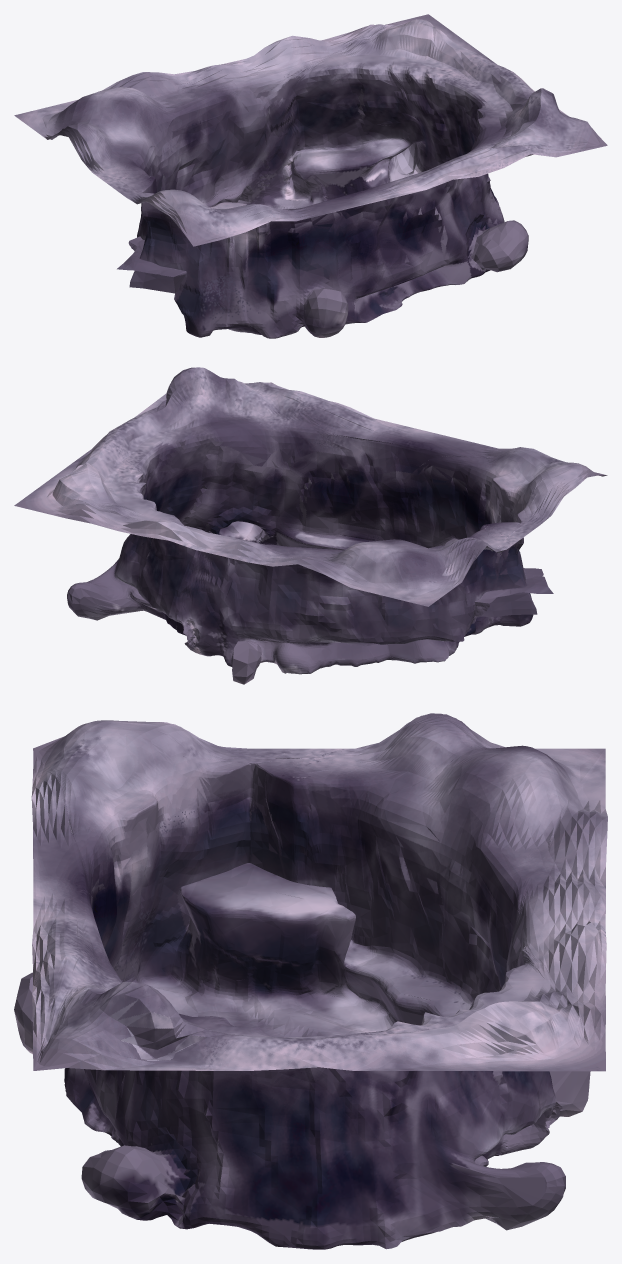
File: Asteroid.fbx
3 views of the same model, one above another, from view 1: azimuth 30°, elevation 25°; view 2: azimuth 150°, elevation 25°; view 3: azimuth 270°, elevation 25° (orthographic). The views are drawn at different scales.
Parts seen in each view (by area): view 1: Plane; view 2: Plane; view 3: Plane.
Boxes of the visible parts, x1,y1,x2,y2 form: Plane: (14,14,607,338); Plane: (14,367,607,684); Plane: (14,713,607,1249).
Bounding box in the file's own units: 577962 × 247875 × 436743.
1 material, 1 textured.
